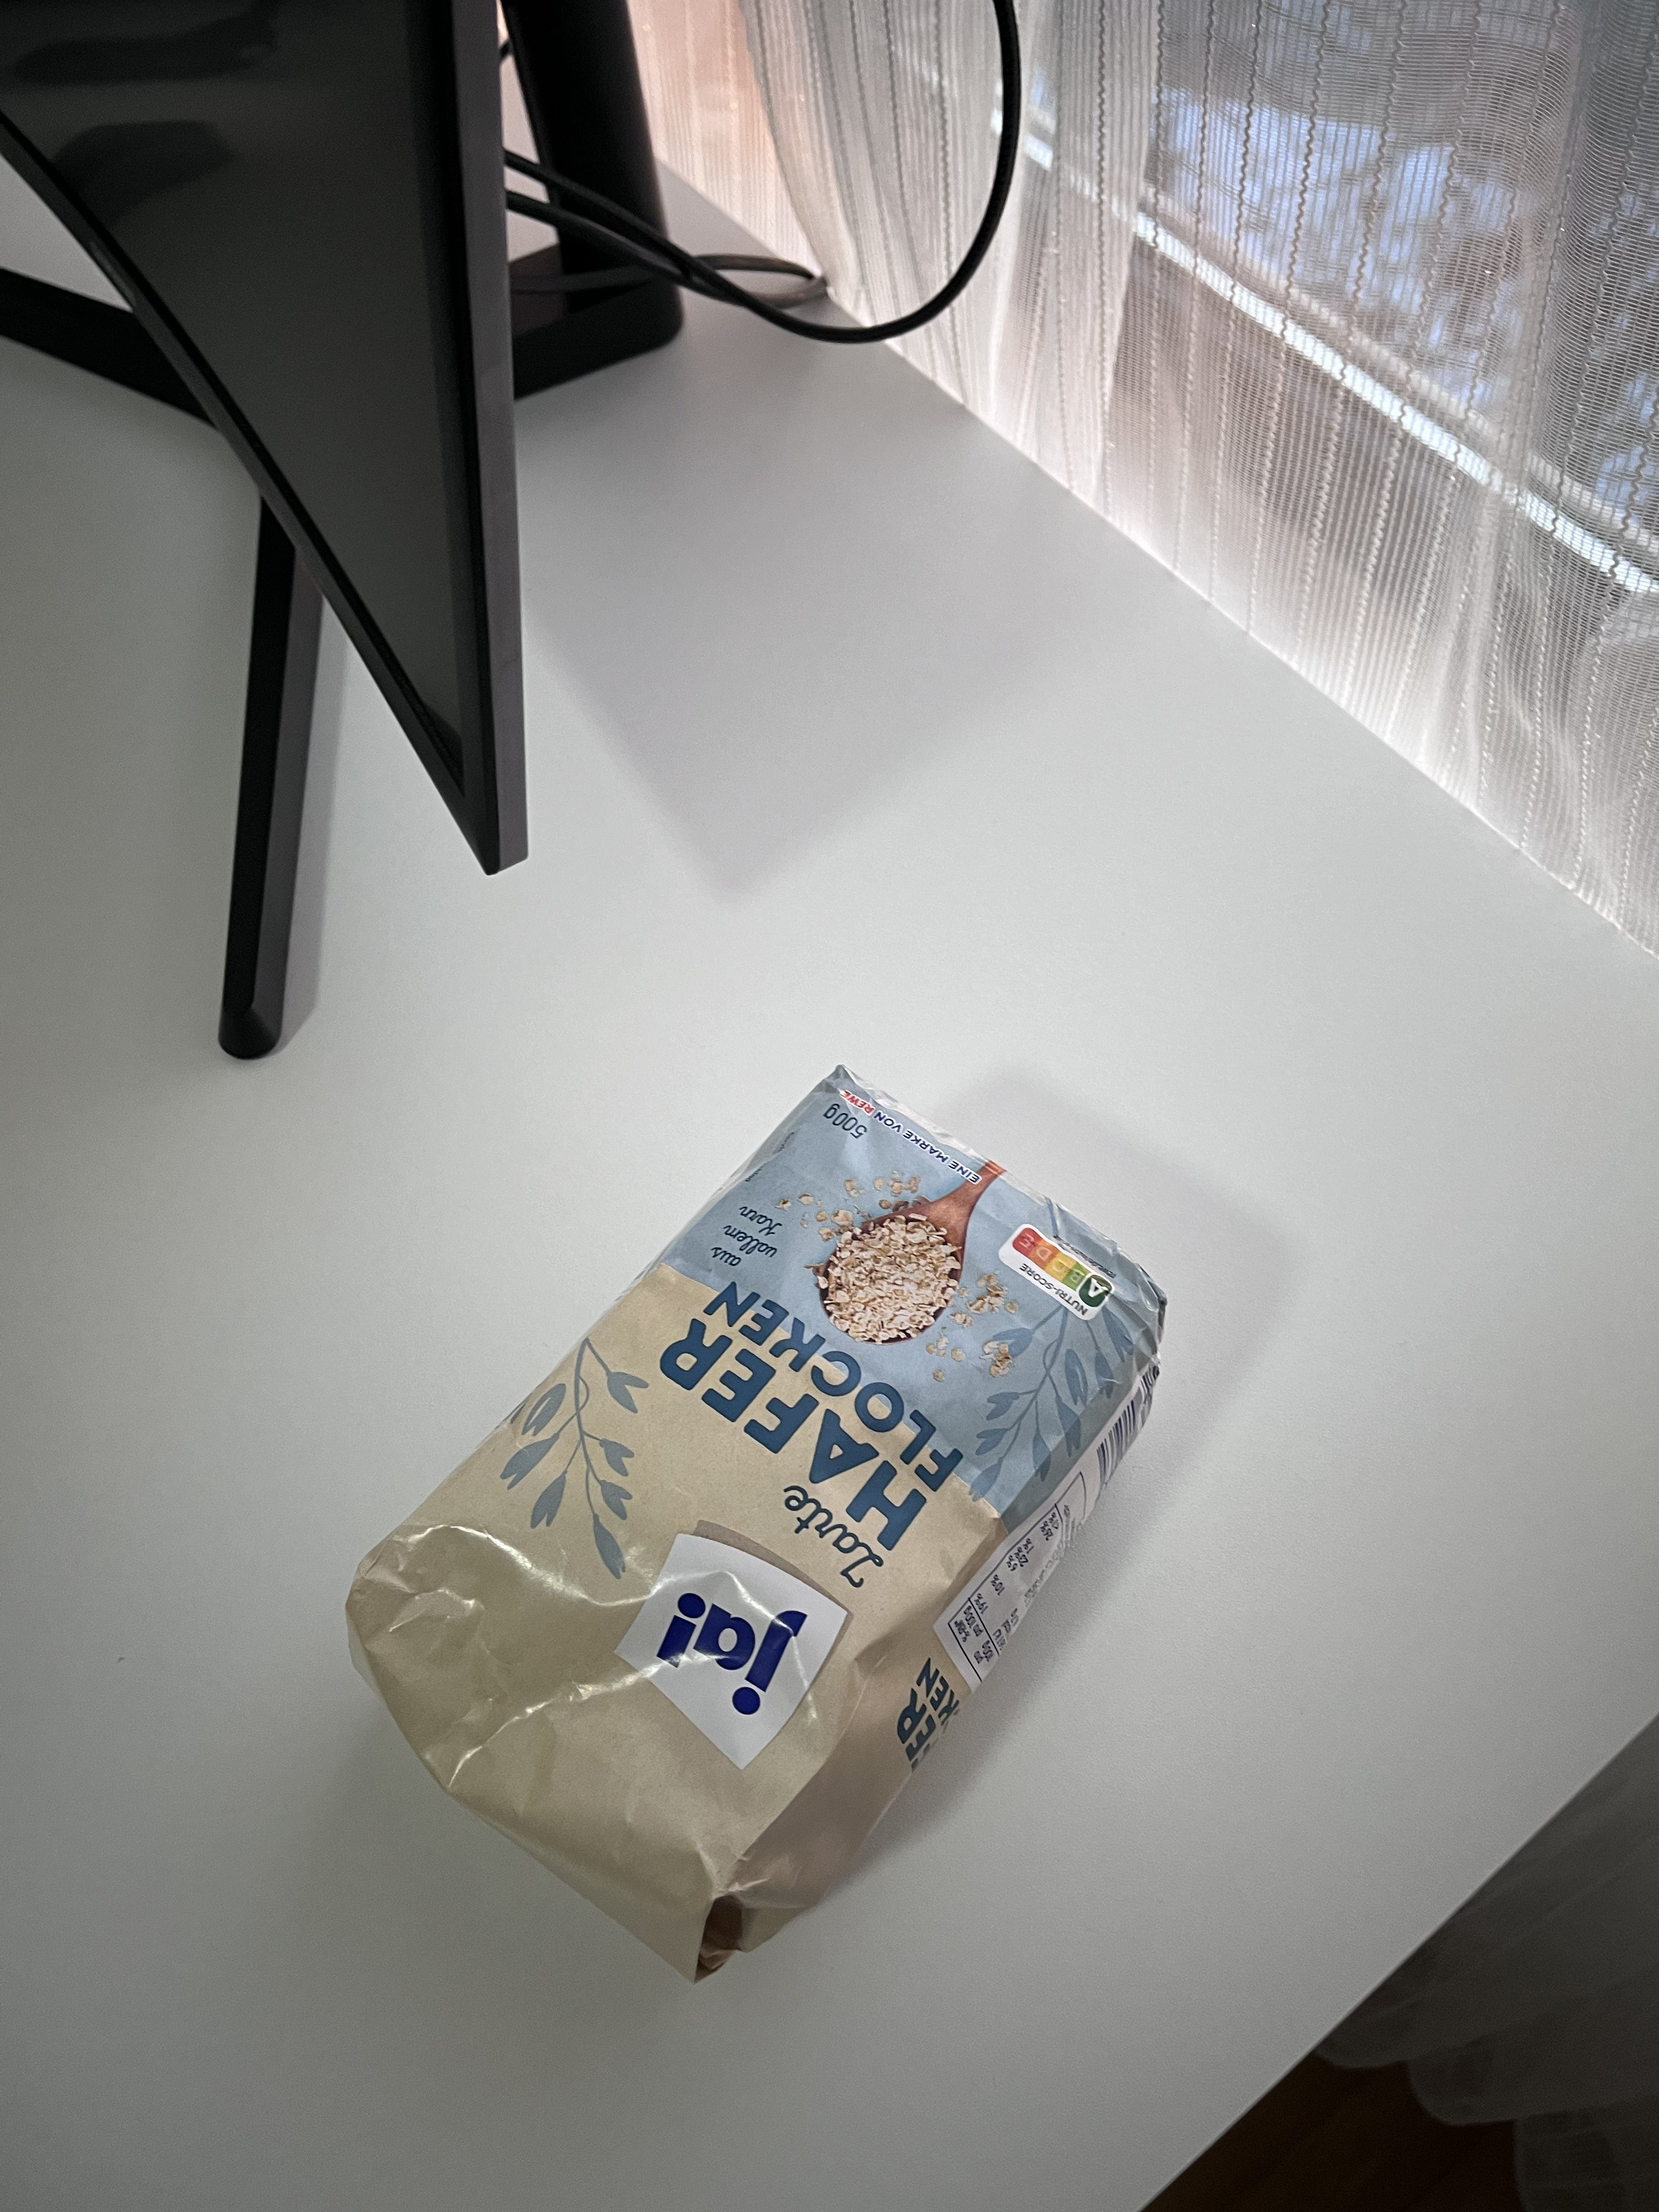haferflocken_ja: (347, 1069, 1169, 1982)
